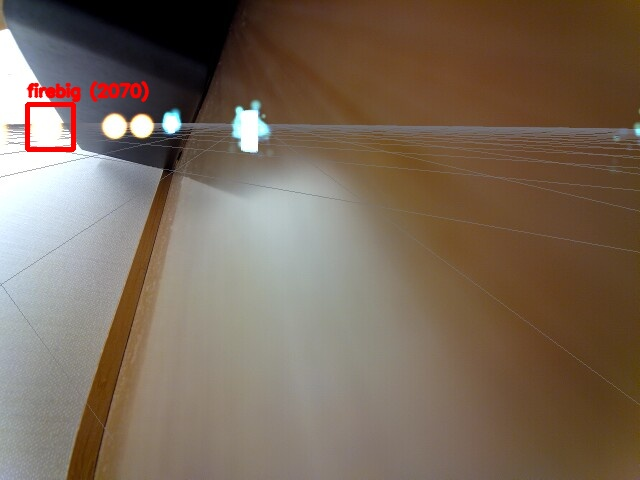firebig: (27, 104, 73, 149)
